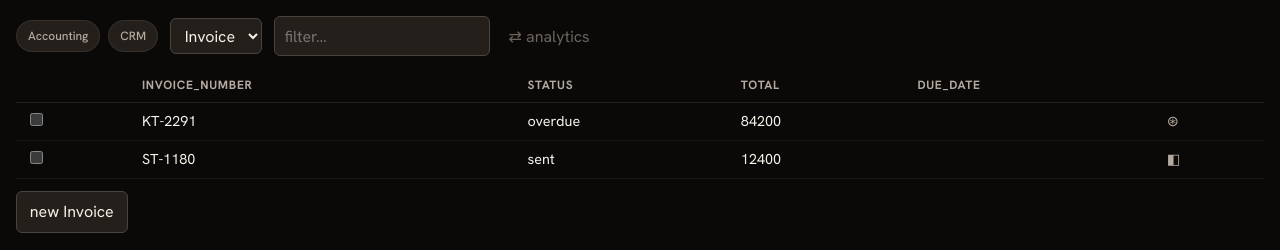
Scenario: the register derives from the def › the halls are the modules; switching hall switches defs
Expected: the row "KT-2291 overdue 84200 ⊛" is shown, [16,102,1264,140]
Step 1. Click the button "CRM" → [133, 36], box [108,20,158,52]
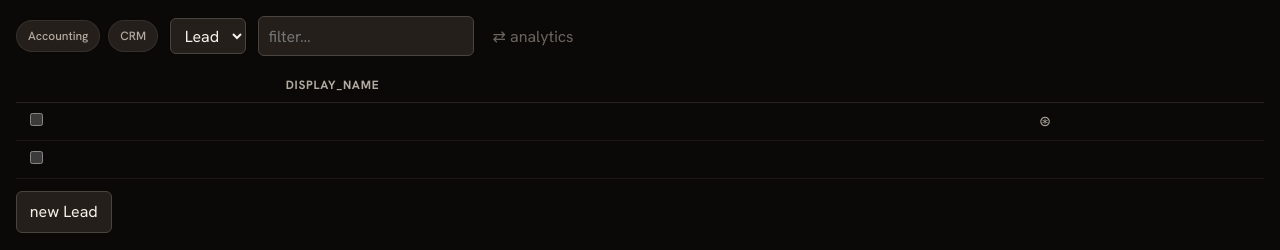
Expected: the column heading "display_name" is shown, [276,68,1025,102]
